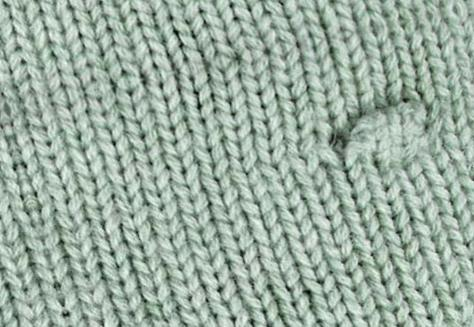knot: (341, 100, 438, 165)
